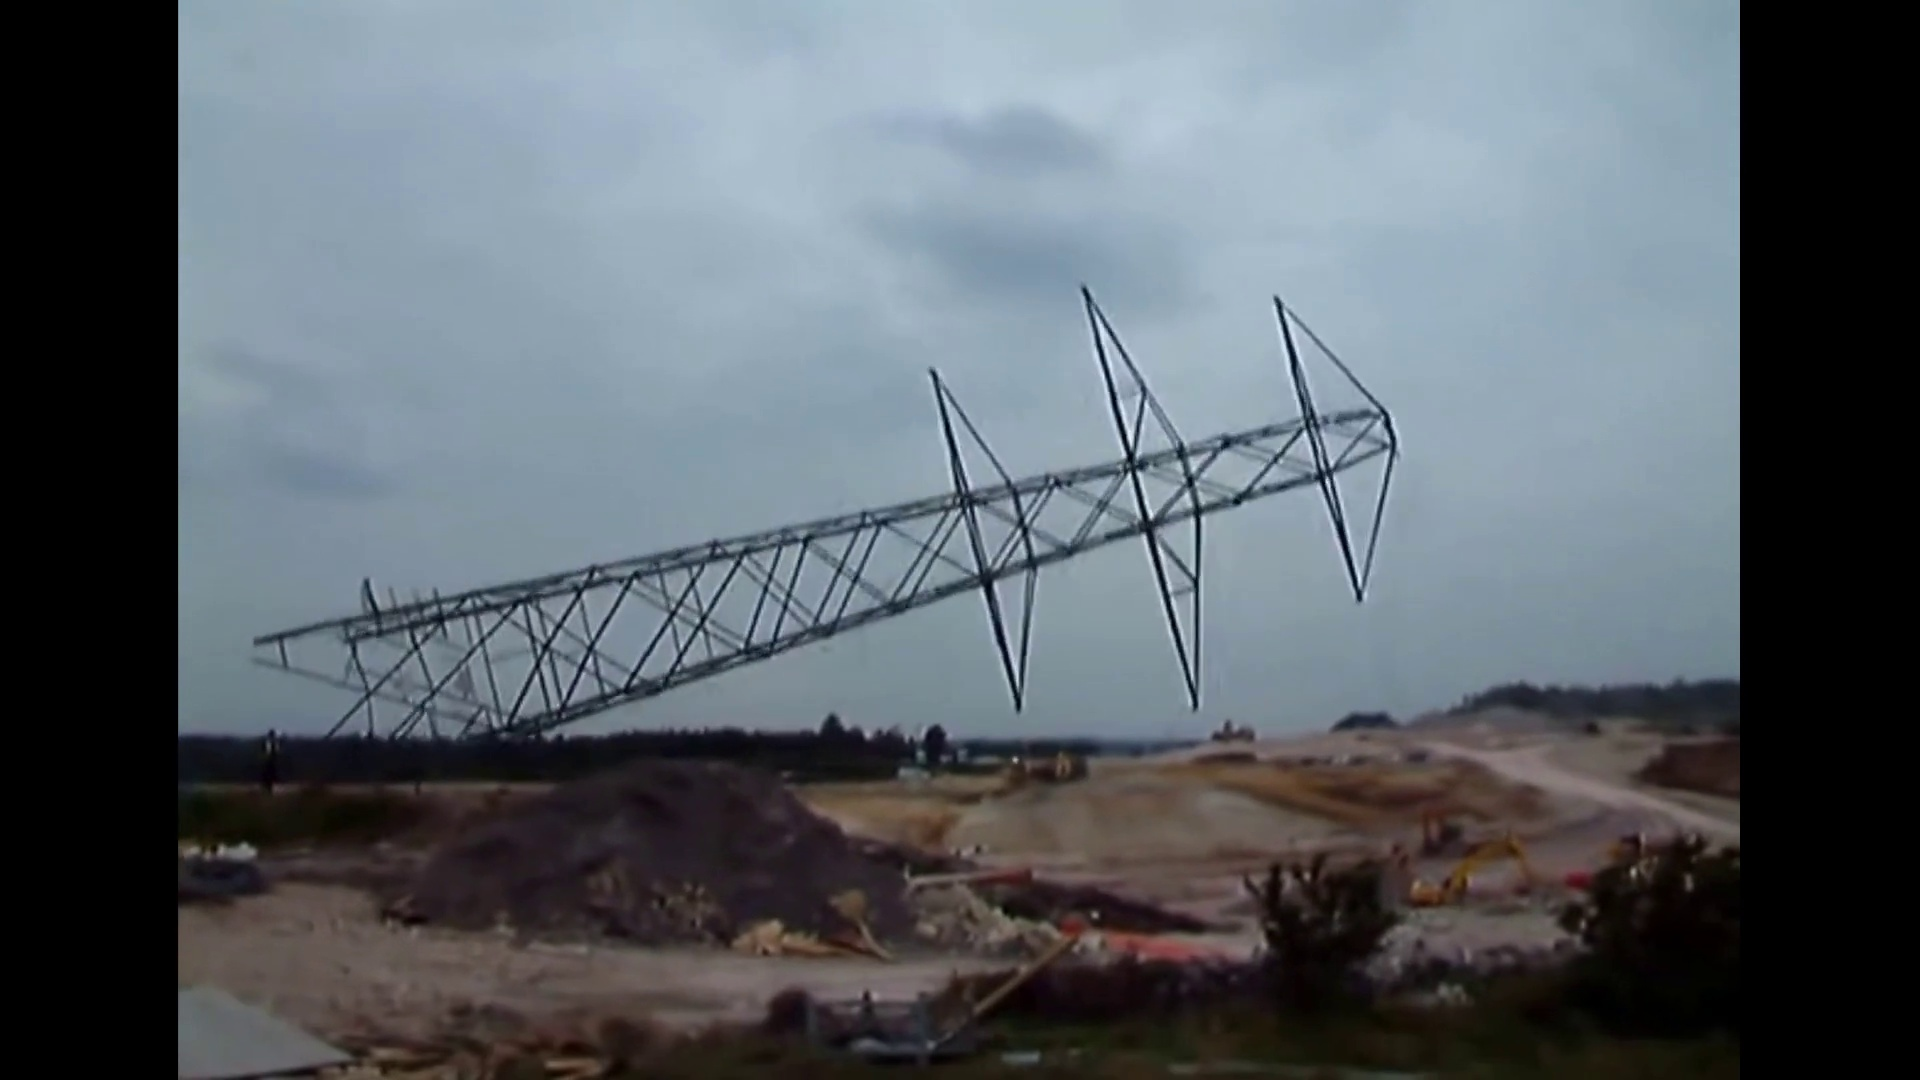tower_down: (249, 309, 1445, 766)
